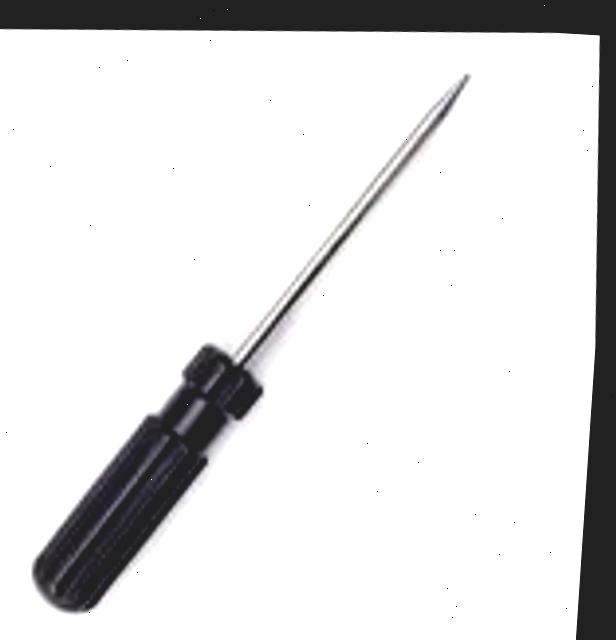ice pick: (0, 46, 508, 639)
